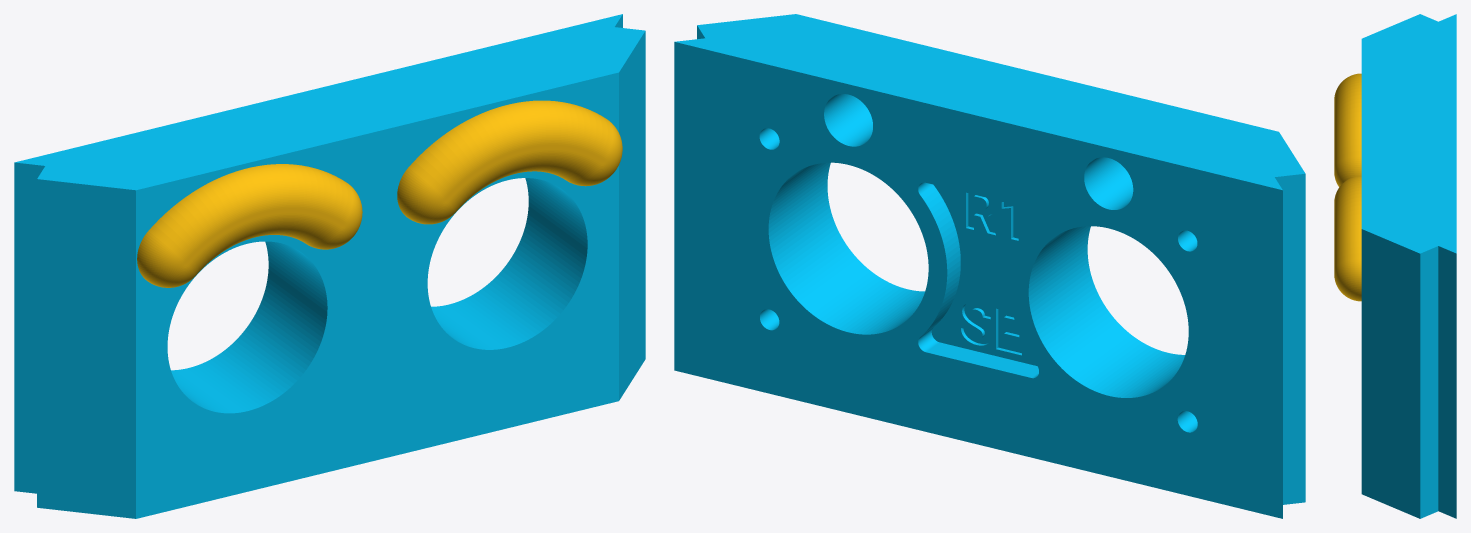
Rendered from Face_Eyebrows.glb.
3 views of the same model, side by side, from view 1: azimuth 30°, elevation 25°; view 2: azimuth 150°, elevation 25°; view 3: azimuth 270°, elevation 25° (orthographic). The views are drawn at different scales.
Parts seen in each view (by area): view 1: Node1, Node2; view 2: Node1; view 3: Node1, Node2.
Part boxes in pixels (x1,y1,x2,y2): Node1: [14, 14, 645, 518]; Node2: [137, 100, 622, 287]; Node1: [674, 14, 1305, 518]; Node1: [1361, 14, 1456, 518]; Node2: [1334, 73, 1361, 301].
Bounding box in the file's own units: 62 × 32 × 13.4.
